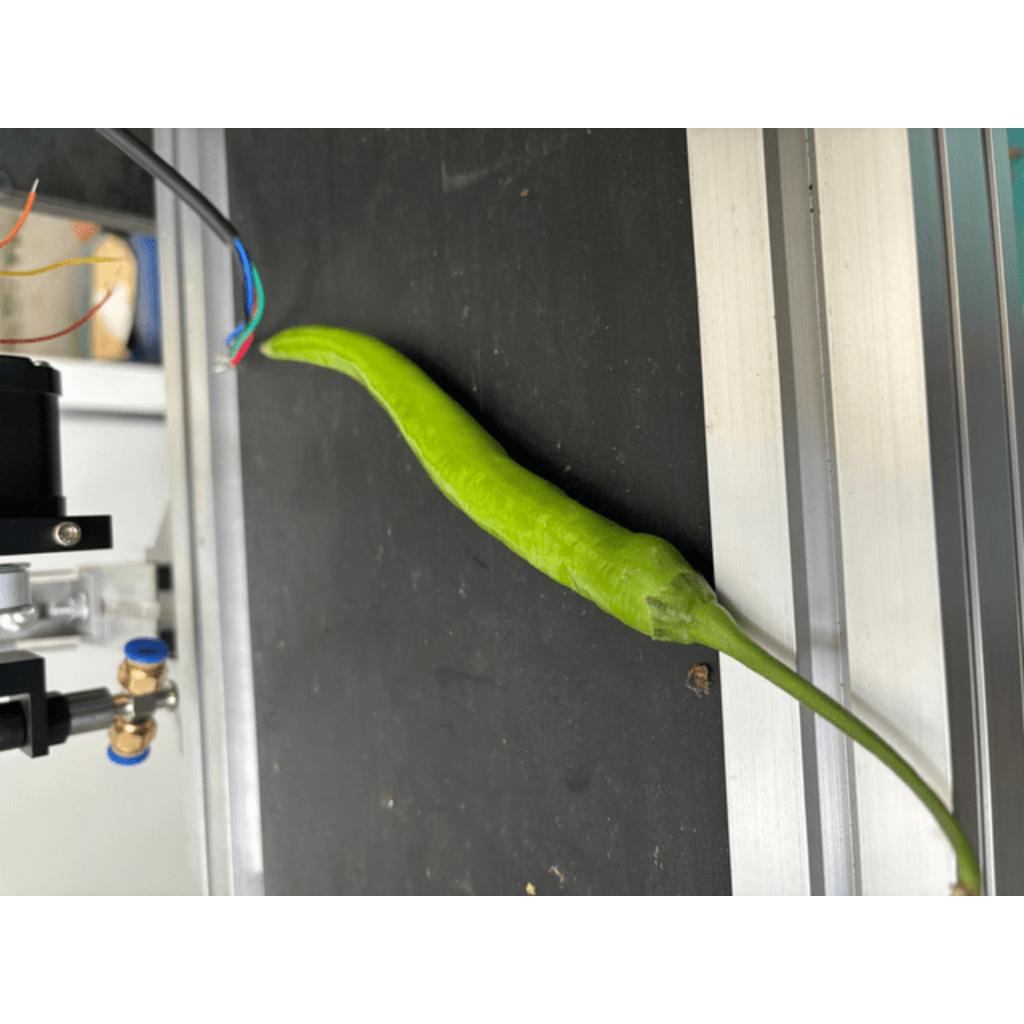chili: (256, 320, 719, 645)
